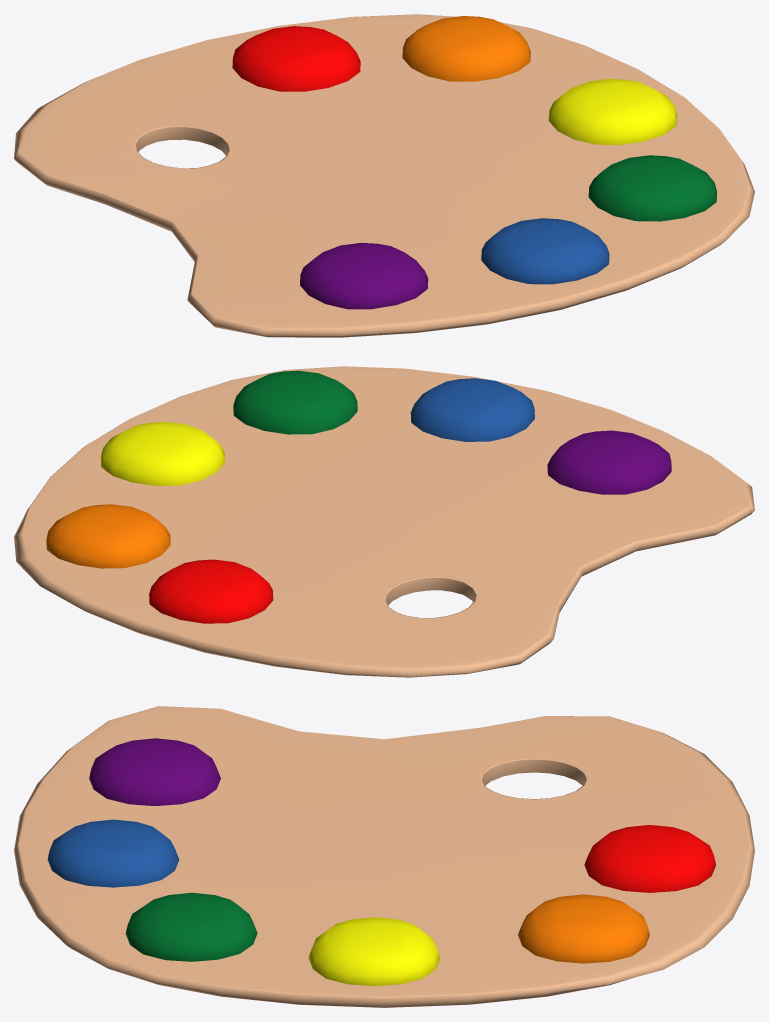
The model's file is Palette.fbx.
3 views of the same model, one above another, from view 1: azimuth 30°, elevation 25°; view 2: azimuth 150°, elevation 25°; view 3: azimuth 270°, elevation 25° (orthographic). The views are drawn at different scales.
Parts seen in each view (by area): view 1: polySurface10; view 2: polySurface10; view 3: polySurface10.
Part boxes in pixels (box(x1,y1,x2,y2)): polySurface10: box(14, 14, 754, 337); polySurface10: box(14, 366, 754, 677); polySurface10: box(14, 706, 754, 1007).
Size of the model in its own units: 6.97 by 0.4213 by 7.4.
Materials: 1 (1 with a texture image).
